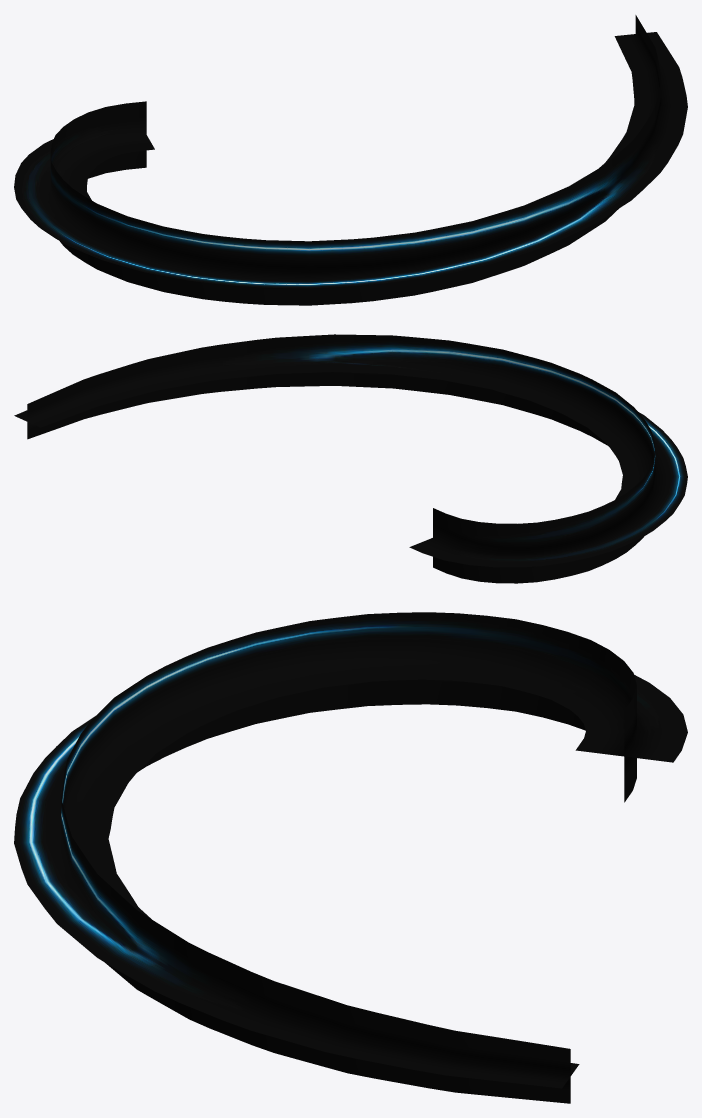
File: 0052_HT_FX_MegaShaNaiDuo_tiaodai.glb
3 views of the same model, one above another, from view 1: azimuth 30°, elevation 25°; view 2: azimuth 150°, elevation 25°; view 3: azimuth 270°, elevation 25° (orthographic). The views are drawn at different scales.
Bounding box in the file's own units: 2.2 × 0.2101 × 1.39.
Materials: 1 (1 with a texture image).
